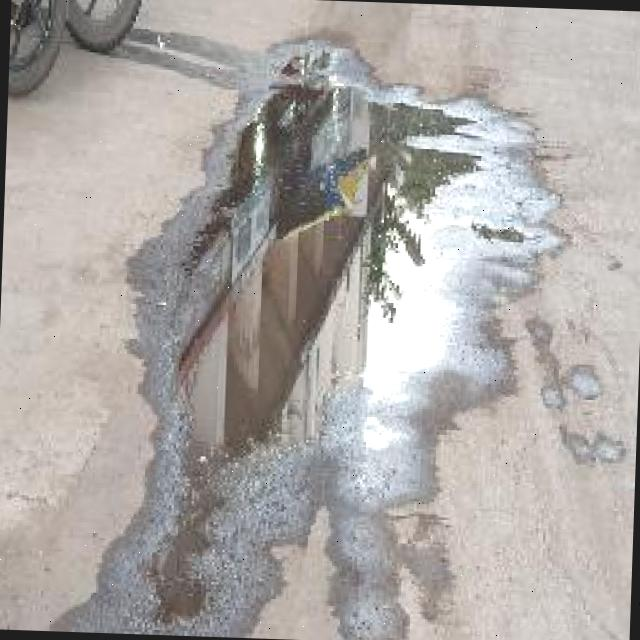stagnation: (125, 72, 542, 629)
